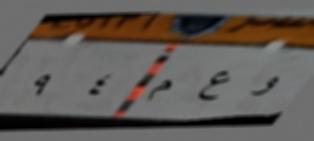4: (86, 68, 113, 109)
9: (30, 70, 56, 108)
ain: (195, 65, 232, 111)
meem: (143, 74, 176, 109)
waw: (249, 70, 283, 107)
